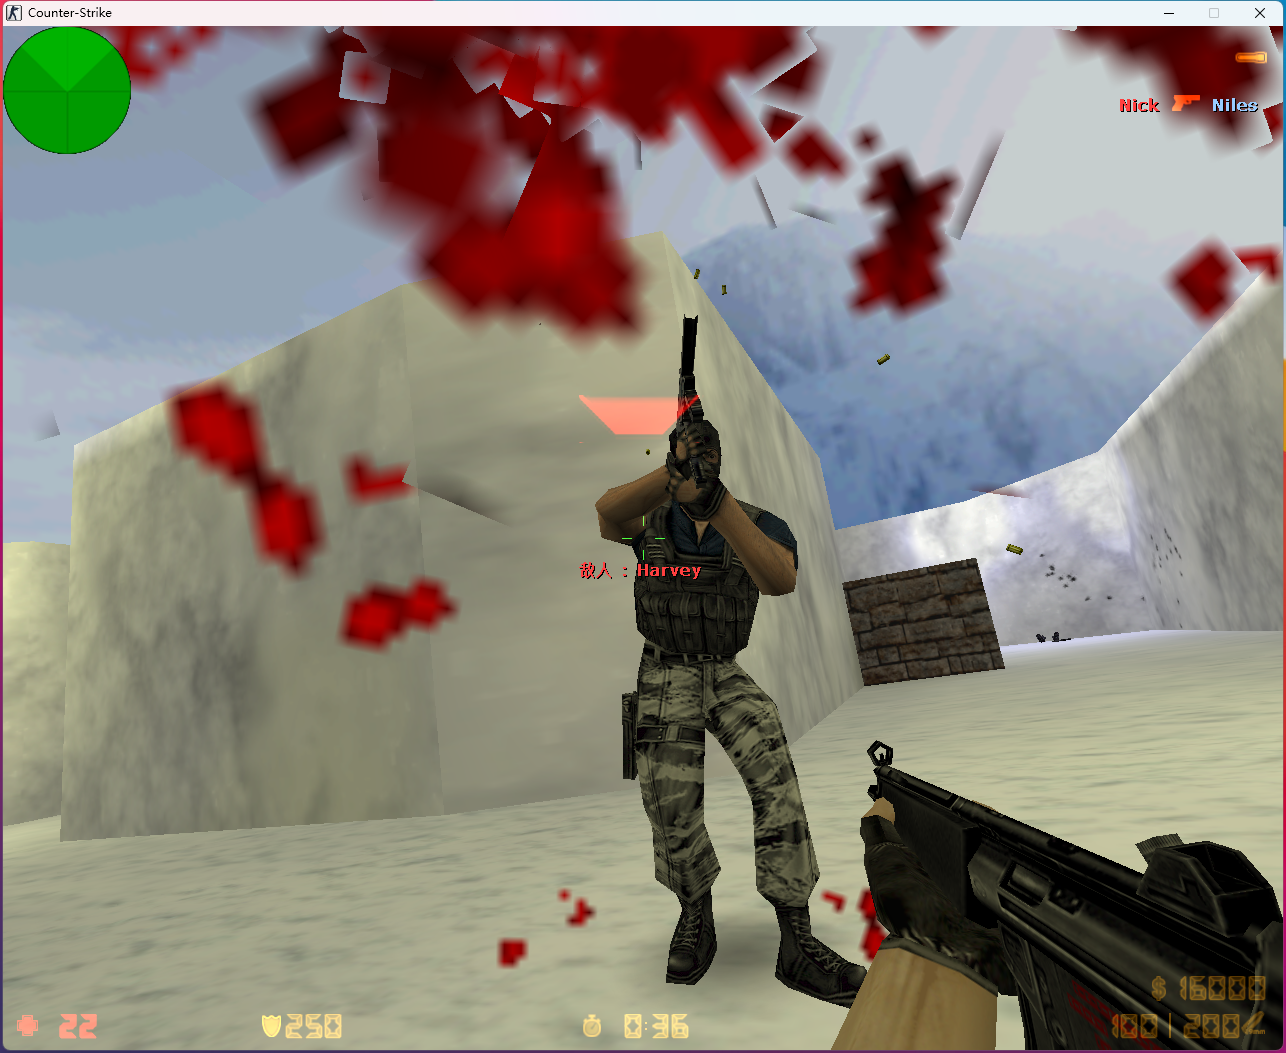T: (591, 420, 906, 1011)
